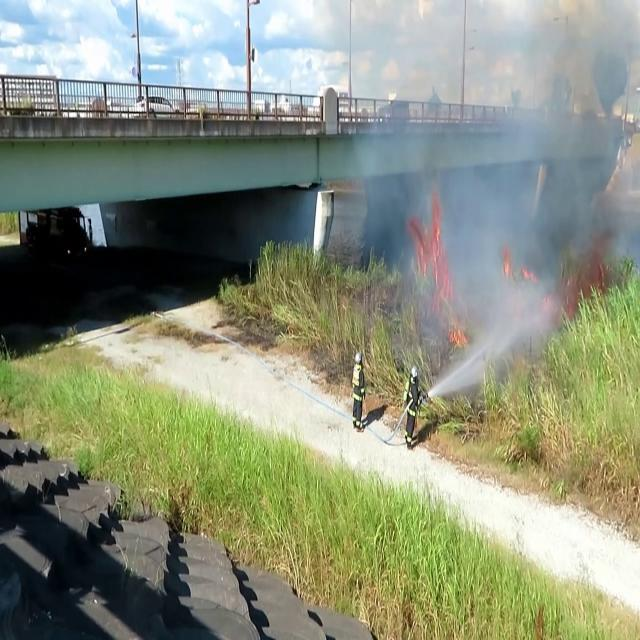Smoke: (375, 1, 640, 370)
